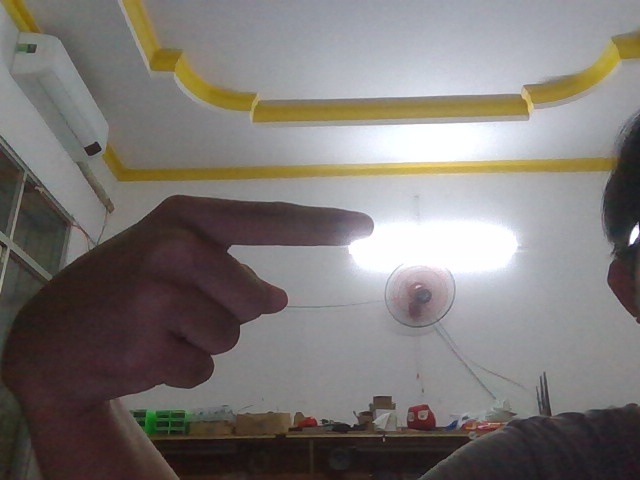turn_left: (1, 168, 385, 422)
